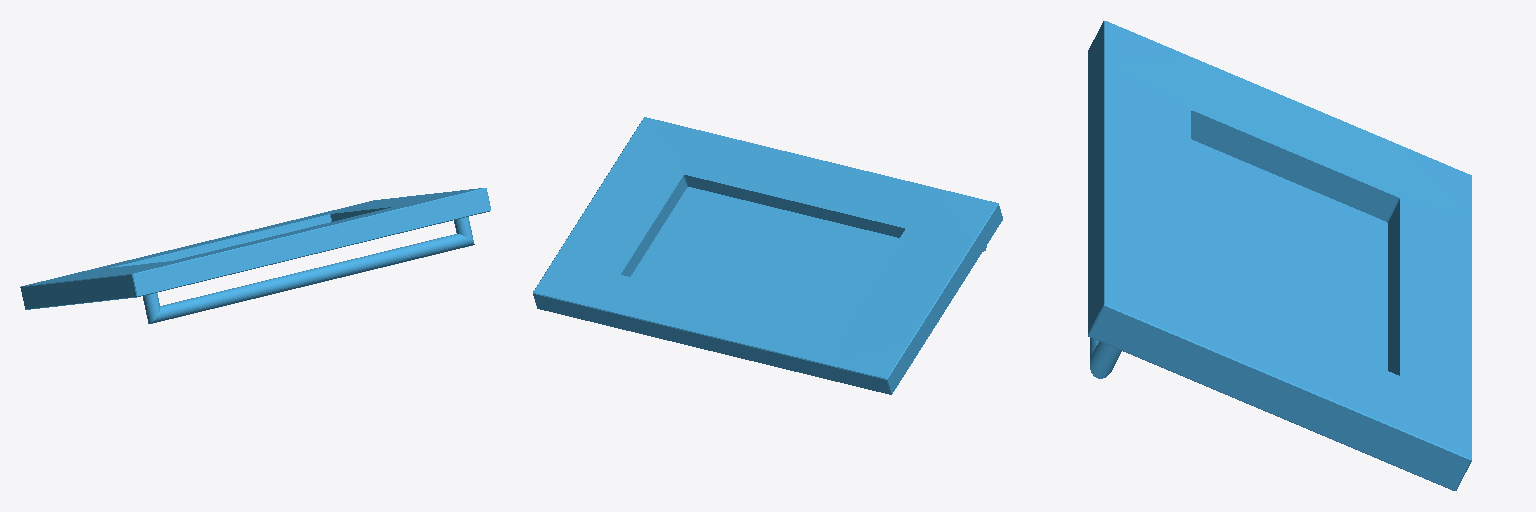
robot.urdf — oven_101917:
<?xml version="1.0"?>
<robot name="oven_101917">
  <link name="base_link">
    <inertial>
      <origin xyz="0 0 0" rpy="0 0 0"/>
      <mass value="1"/>
      <inertia ixx="0.001" ixy="0" ixz="0" iyy="0.001" iyz="0" izz="0.001"/>
    </inertial>
    <visual>
      <origin xyz="0 0 0" rpy="0 0 0"/>
      <geometry>
        <mesh filename="meshes/base_link.obj" scale="1 1 1"/>
      </geometry>
    </visual>
    <collision>
      <origin xyz="0 0 0" rpy="0 0 0"/>
      <geometry>
        <mesh filename="meshes/base_link.obj" scale="1 1 1"/>
      </geometry>
    </collision>
  </link>
  <link name="moving_link">
    <inertial>
      <origin xyz="0 0 0" rpy="0 0 0"/>
      <mass value="1"/>
      <inertia ixx="0.001" ixy="0" ixz="0" iyy="0.001" iyz="0" izz="0.001"/>
    </inertial>
    <visual>
      <origin xyz="0.638236 0.4194280152 0.4423213243" rpy="0 0 0"/>
      <geometry>
        <mesh filename="meshes/moving_link.obj" scale="1 1 1"/>
      </geometry>
    </visual>
    <collision>
      <origin xyz="0.638236 0.4194280152 0.4423213243" rpy="0 0 0"/>
      <geometry>
        <mesh filename="meshes/moving_link.obj" scale="1 1 1"/>
      </geometry>
    </collision>
  </link>
  <joint name="oven_101917_joint" type="revolute">
    <parent link="base_link"/>
    <child link="moving_link"/>
    <origin xyz="-0.638236 -0.4194280152 -0.4423213243" rpy="0 0 0"/>
    <axis xyz="1 0 0"/>
    <limit lower="-0.5235987756" upper="0" effort="100" velocity="10"/>
  </joint>
</robot>

--- Facts derived from the render (not from the file) ---
The picture shows the robot from 3 angles, left to right: view 1: azimuth 30°, elevation 25°; view 2: azimuth 150°, elevation 25°; view 3: azimuth 270°, elevation 25°; orthographic projection.
Model oven_101917 with 2 links and 1 joints (1 revolute), rooted at base_link, posed all joints at 0.
Visible links, largest first — view 1: moving_link; view 2: moving_link; view 3: moving_link.
Boxes of the visible links, x1,y1,x2,y2 form: moving_link: (20, 188, 490, 323); moving_link: (533, 117, 1002, 394); moving_link: (1088, 21, 1471, 490).
Size in the robot's own frame: 1.28 by 0.7319 by 0.3938 metres.
1 mesh visuals loaded from 2 distinct referenced files (1 OBJ); not drawn: 1 (reference not matched to a file when rendering).
